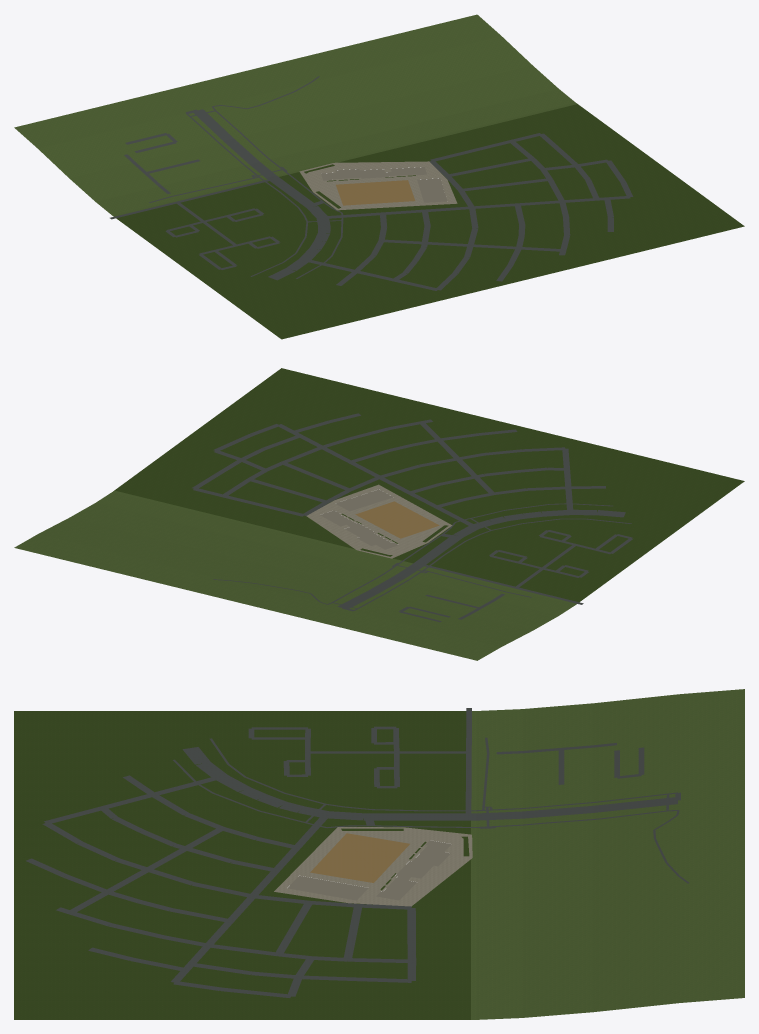
The picture shows the model from 3 angles, top to bottom: view 1: azimuth 30°, elevation 25°; view 2: azimuth 150°, elevation 25°; view 3: azimuth 270°, elevation 25°; orthographic projection. The views are drawn at different scales.
Visible parts, largest first — view 1: context-ground__garden-lawn, context-ground__context-forest-ground, context-road-surface__context-asphalt, campus-paved-court__site-paving, field-surface__field-earth, under-building-main__stand-concrete, under-building-annex__stand-concrete; view 2: context-ground__garden-lawn, context-ground__context-forest-ground, context-road-surface__context-asphalt, campus-paved-court__site-paving, field-surface__field-earth, under-building-main__stand-concrete, under-building-annex__stand-concrete; view 3: context-ground__garden-lawn, context-ground__context-forest-ground, context-road-surface__context-asphalt, campus-paved-court__site-paving, field-surface__field-earth, under-building-main__stand-concrete, under-building-annex__stand-concrete.
Boxes of the visible parts, x1,y1,x2,y2 form: context-ground__garden-lawn: [116, 104, 744, 339]; context-ground__context-forest-ground: [14, 14, 577, 216]; context-road-surface__context-asphalt: [110, 76, 633, 290]; campus-paved-court__site-paving: [299, 161, 457, 210]; field-surface__field-earth: [336, 180, 415, 205]; under-building-main__stand-concrete: [321, 167, 426, 180]; under-building-annex__stand-concrete: [417, 178, 447, 202]; context-ground__garden-lawn: [114, 368, 744, 602]; context-ground__context-forest-ground: [14, 490, 576, 660]; context-road-surface__context-asphalt: [192, 413, 633, 622]; campus-paved-court__site-paving: [306, 484, 452, 558]; field-surface__field-earth: [355, 501, 439, 538]; under-building-main__stand-concrete: [320, 510, 398, 549]; under-building-annex__stand-concrete: [335, 489, 392, 511]; context-ground__garden-lawn: [14, 711, 470, 1019]; context-ground__context-forest-ground: [471, 689, 744, 1019]; context-road-surface__context-asphalt: [26, 708, 689, 997]; campus-paved-court__site-paving: [274, 827, 472, 906]; field-surface__field-earth: [310, 833, 409, 882]; under-building-main__stand-concrete: [376, 840, 451, 900]; under-building-annex__stand-concrete: [287, 876, 368, 900].
Size of the model in its own units: 517 by 17.08 by 512.
Materials: 6 (6 with a texture image).
